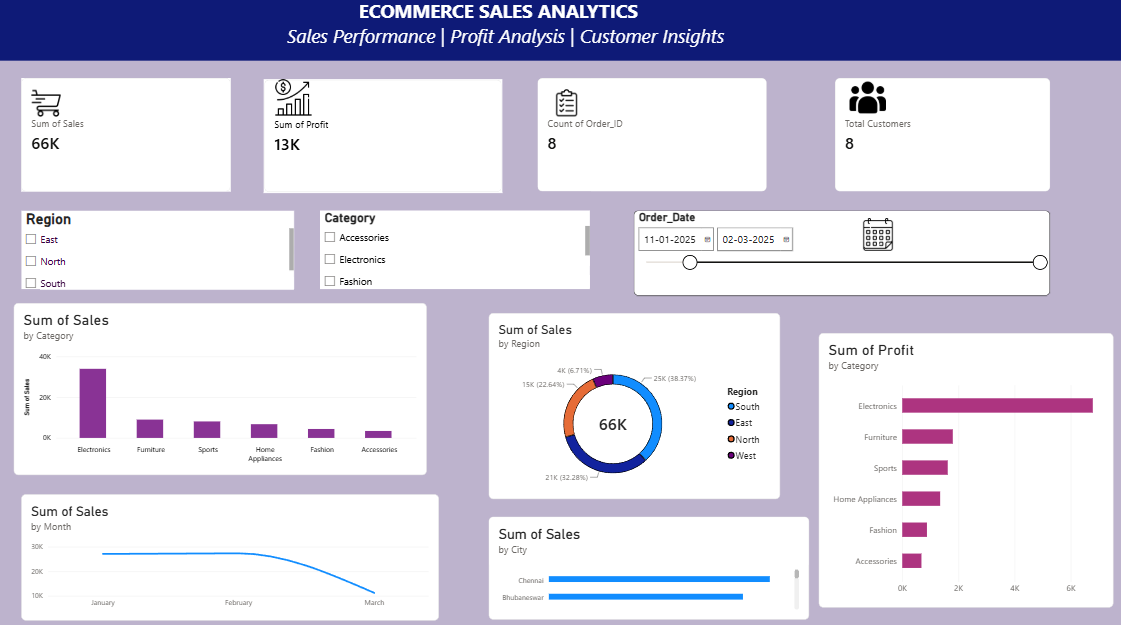

This screenshot's page, from the dashboard's own definition file:
{"tool":"powerbi","page":{"name":"Page 1","canvas":[1920,1080],"ordinal":0},"visuals":[{"type":"cardVisual","fields":{"Data":["Sum(SalesData.Profit)"]},"box":[452,138,408,194],"z":0},{"type":"cardVisual","fields":{"Data":["CountNonNull(SalesData.Order_ID)"]},"box":[920,136,392,194],"z":1000},{"type":"clusteredColumnChart","fields":{"Category":["SalesData.Category"],"Y":["Sum(SalesData.Sales)"]},"box":[24,522,706,294],"z":2000},{"type":"donutChart","fields":{"Category":["SalesData.Region"],"Y":["Sum(SalesData.Sales)"]},"box":[836,540,498,318],"z":3000},{"type":"lineChart","fields":{"Category":["SalesData.Order_Date.Variation.Date Hierarchy.Month"],"Y":["Sum(SalesData.Sales)"]},"box":[36,848,714,216],"z":4000},{"type":"cardVisual","fields":{"Data":["Count(SalesData.Customer_ID)"]},"box":[1428,136,368,194],"z":5000},{"type":"clusteredBarChart","fields":{"Category":["SalesData.Category"],"Y":["Sum(SalesData.Profit)"]},"box":[1400,522,424,404],"z":6000},{"type":"clusteredBarChart","fields":{"Category":["SalesData.City"],"Y":["Sum(SalesData.Sales)"]},"box":[836,888,548,176],"z":7000},{"type":"slicer","fields":{"Values":["SalesData.Region"]},"box":[36,364,416,134],"z":8000},{"type":"slicer","fields":{"Values":["SalesData.Category"]},"box":[498,364,422,134],"z":9000},{"type":"slicer","fields":{"Values":["SalesData.Order_Date"]},"box":[1010,356,568,166],"z":10000},{"type":"textbox","box":[0,0,1840,108],"z":11000},{"type":"cardVisual","fields":{"Data":["Sum(SalesData.Sales)"]},"box":[36,136,358,194],"z":12000},{"type":"image","box":[54,136,50,86],"z":13000},{"type":"image","box":[464,136,76,66],"z":14000},{"type":"image","box":[928,156,82,46],"z":15000},{"type":"image","box":[1442,140,86,62],"z":16000},{"type":"image","box":[1442,376,122,56],"z":17000}]}

Visuals, with their boxes in screenshot pixels (x1, y1, x2, y2), scaled from the page's 1920x1080 canvas onto the 1121x625 screenshot:
cardVisual - Sum(SalesData.Profit): 264,80,502,192
cardVisual - CountNonNull(SalesData.Order_ID): 537,79,766,191
clusteredColumnChart - SalesData.Category x Sum(SalesData.Sales): 14,302,426,472
donutChart - SalesData.Region x Sum(SalesData.Sales): 488,312,779,497
lineChart - SalesData.Order_Date.Variation.Date Hierarchy.Month x Sum(SalesData.Sales): 21,491,438,616
cardVisual - Count(SalesData.Customer_ID): 834,79,1049,191
clusteredBarChart - SalesData.Category x Sum(SalesData.Profit): 817,302,1065,536
clusteredBarChart - SalesData.City x Sum(SalesData.Sales): 488,514,808,616
slicer - SalesData.Region: 21,211,264,288
slicer - SalesData.Category: 291,211,537,288
slicer - SalesData.Order_Date: 590,206,921,302
textbox: 0,0,1074,62
cardVisual - Sum(SalesData.Sales): 21,79,230,191
image: 32,79,61,128
image: 271,79,315,117
image: 542,90,590,117
image: 842,81,892,117
image: 842,218,913,250
